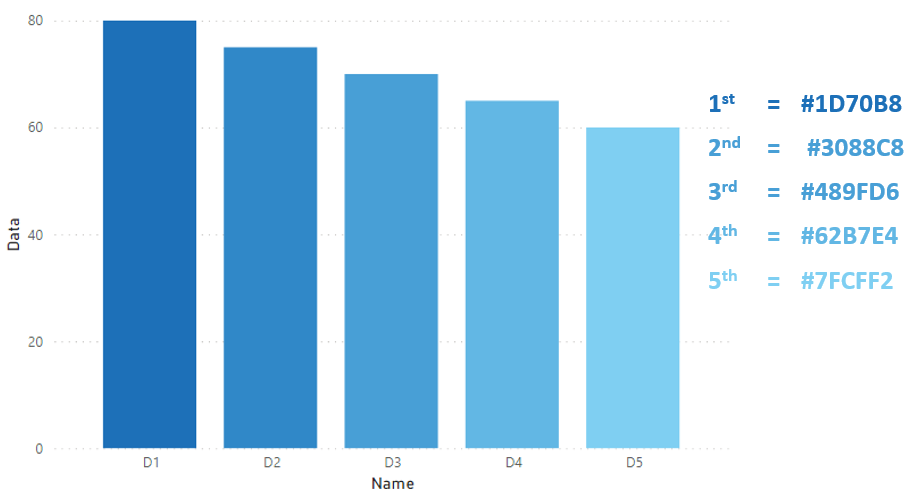

The page's visual inventory and layout, read from the dashboard file:
{"tool":"powerbi","page":{"name":"Page 1","canvas":[1280,720],"ordinal":0},"visuals":[{"type":"columnChart","fields":{"Category":["Table.Name"],"Y":["Sum(Table.Data)"]},"box":[287.9,122.6,633.2,441.6],"z":0}]}

Visuals, with their boxes on the page's 1280x720 design canvas (x1, y1, x2, y2). These are canvas units, not pixel positions in the 920x502 screenshot, which may show the page scaled, cropped or inside an application window:
columnChart - Table.Name x Sum(Table.Data): bbox=(288, 123, 921, 564)
